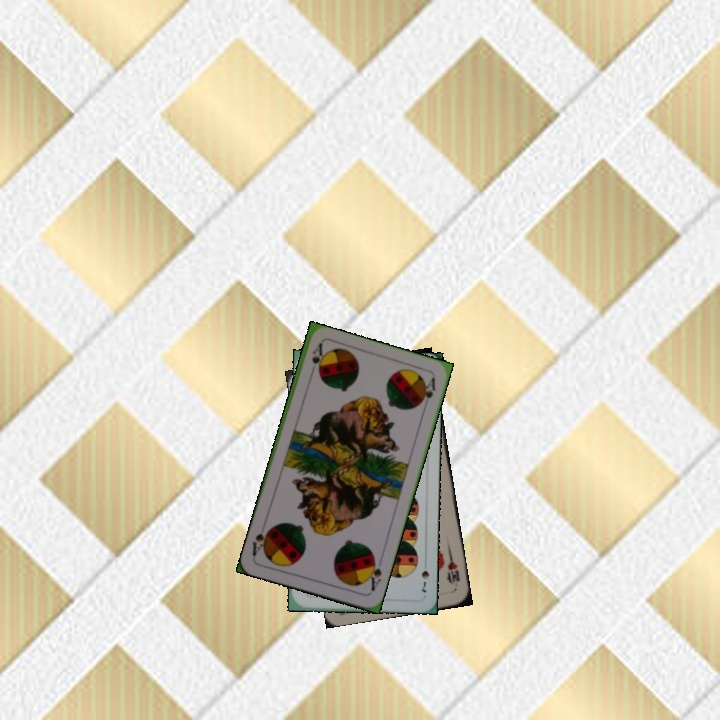H10: (443, 550, 463, 587)
S7: (417, 556, 432, 596)
SA: (363, 553, 384, 594), (306, 340, 325, 380)
